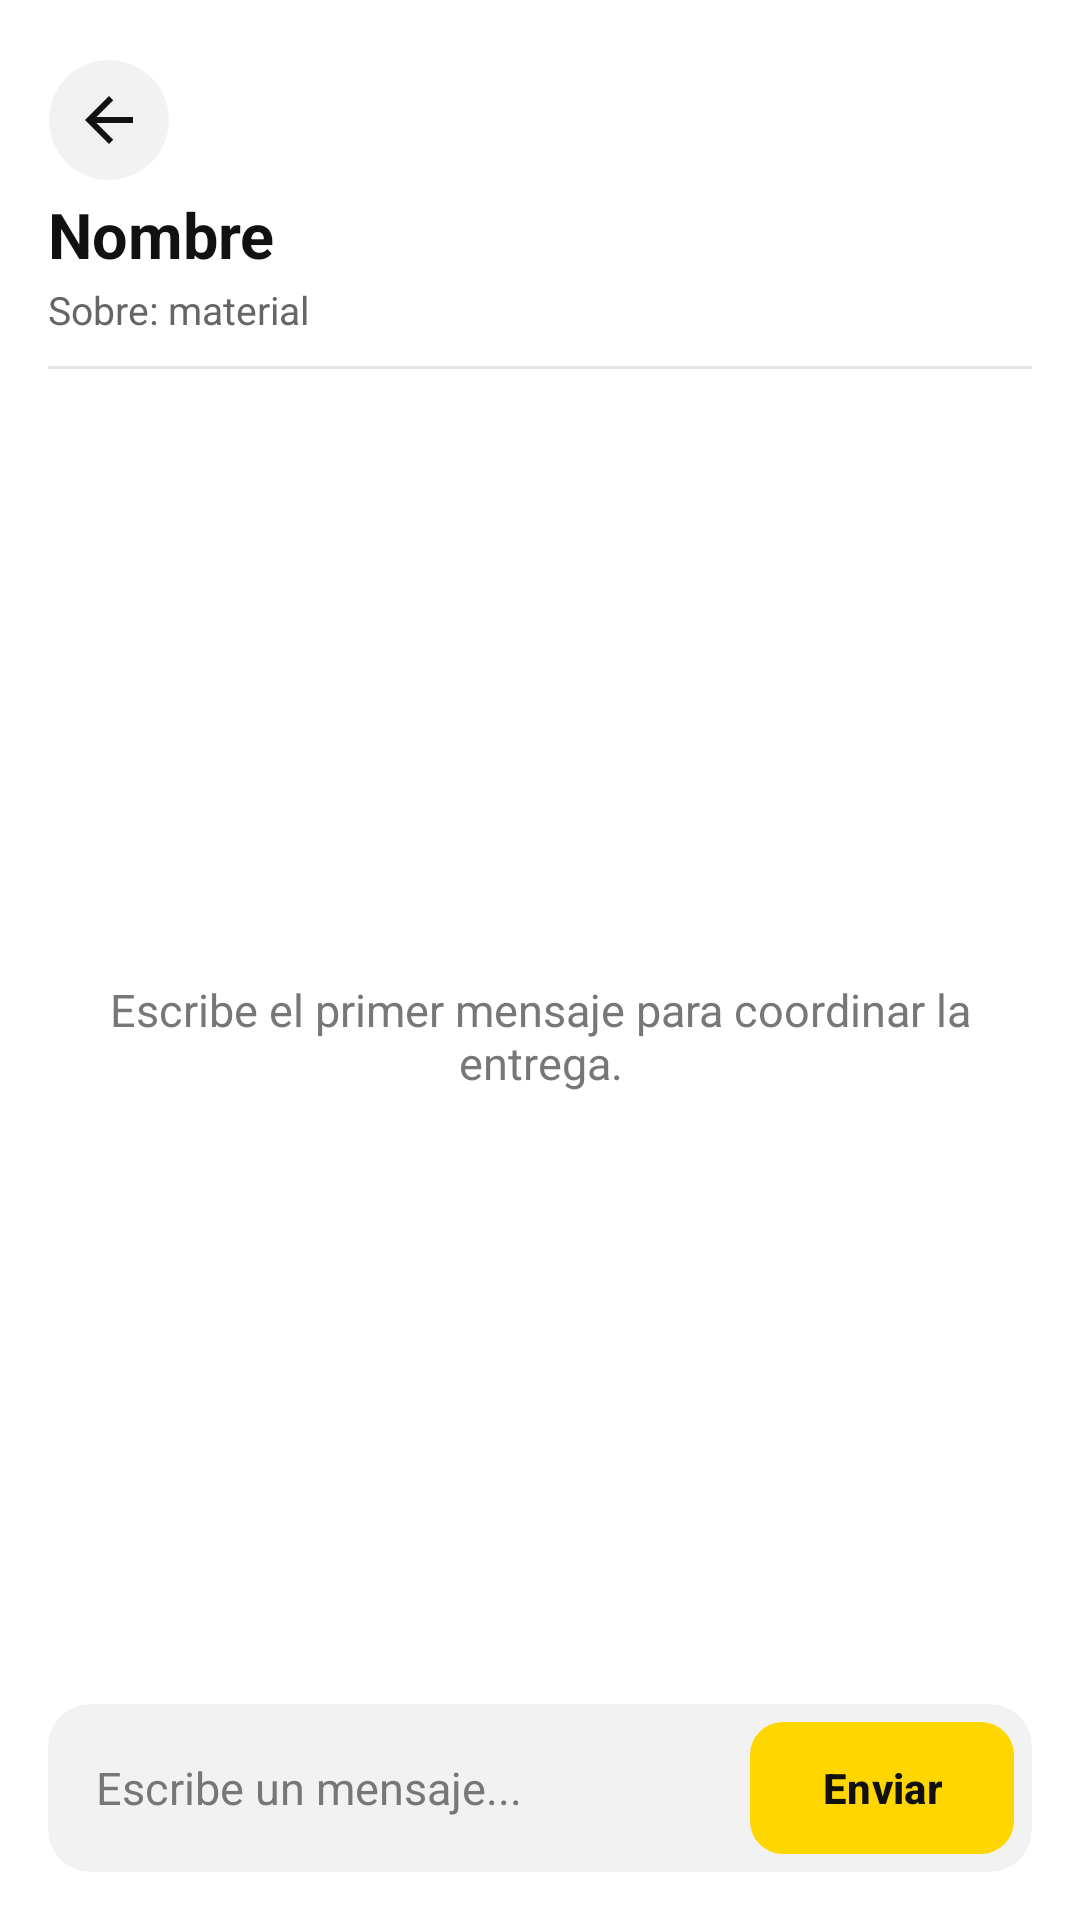

Named icons in this screenshot (1080×1920) and their centers, (x,y):
Regresar: (109,120)
